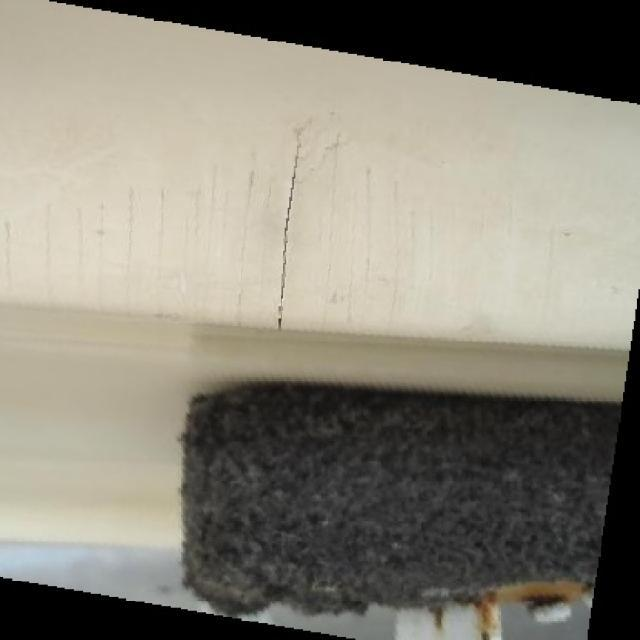crack: (280, 129, 303, 325)
